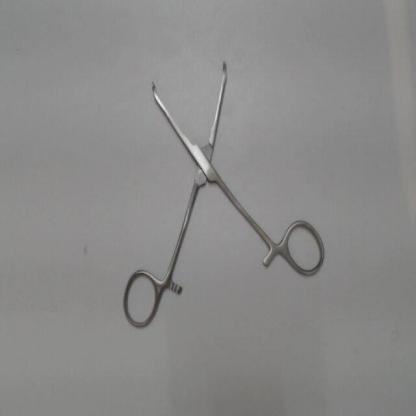Allis Tissue Forceps: (114, 51, 335, 338)
